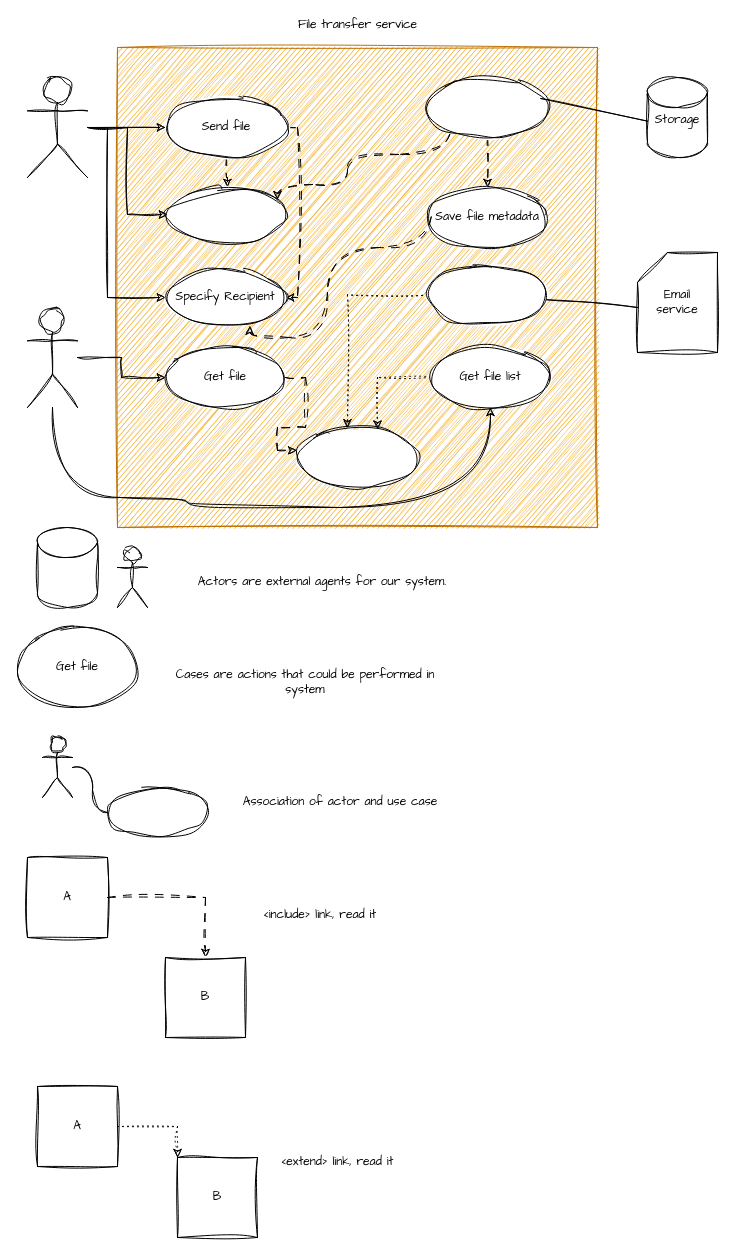
Some shapes in this 735 by 1255 pixel diagram are drawn without their labels. The box of each missing label's shape, as (x1, y1, x2, y2) in pixels:
Get available: (296, 426, 418, 488)
Recipient: (26, 306, 78, 408)
Send email: (426, 264, 548, 325)
Sender: (26, 76, 88, 178)
Store file: (426, 76, 548, 138)
Upload file: (166, 186, 288, 242)
